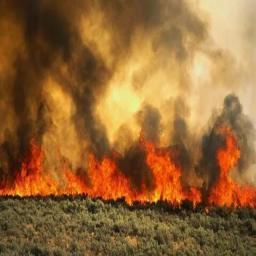Heavy smoke: (0, 1, 256, 176)
Large fire: (0, 132, 256, 221)
